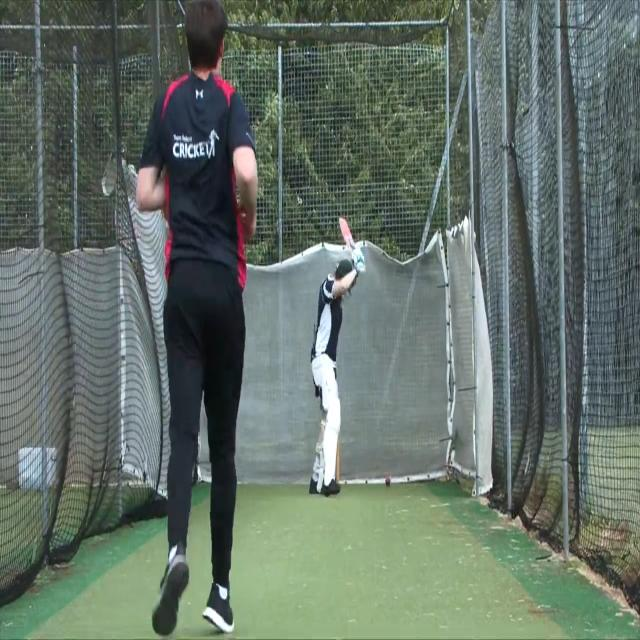batsman: (307, 213, 367, 499)
